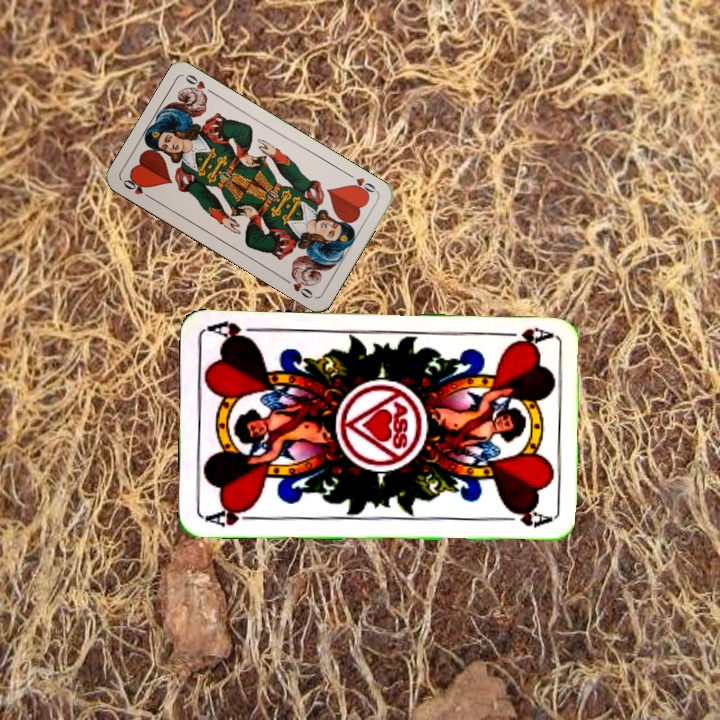HA: (202, 503, 261, 530), (495, 323, 554, 347)
HO: (343, 169, 380, 199), (119, 173, 155, 202)
